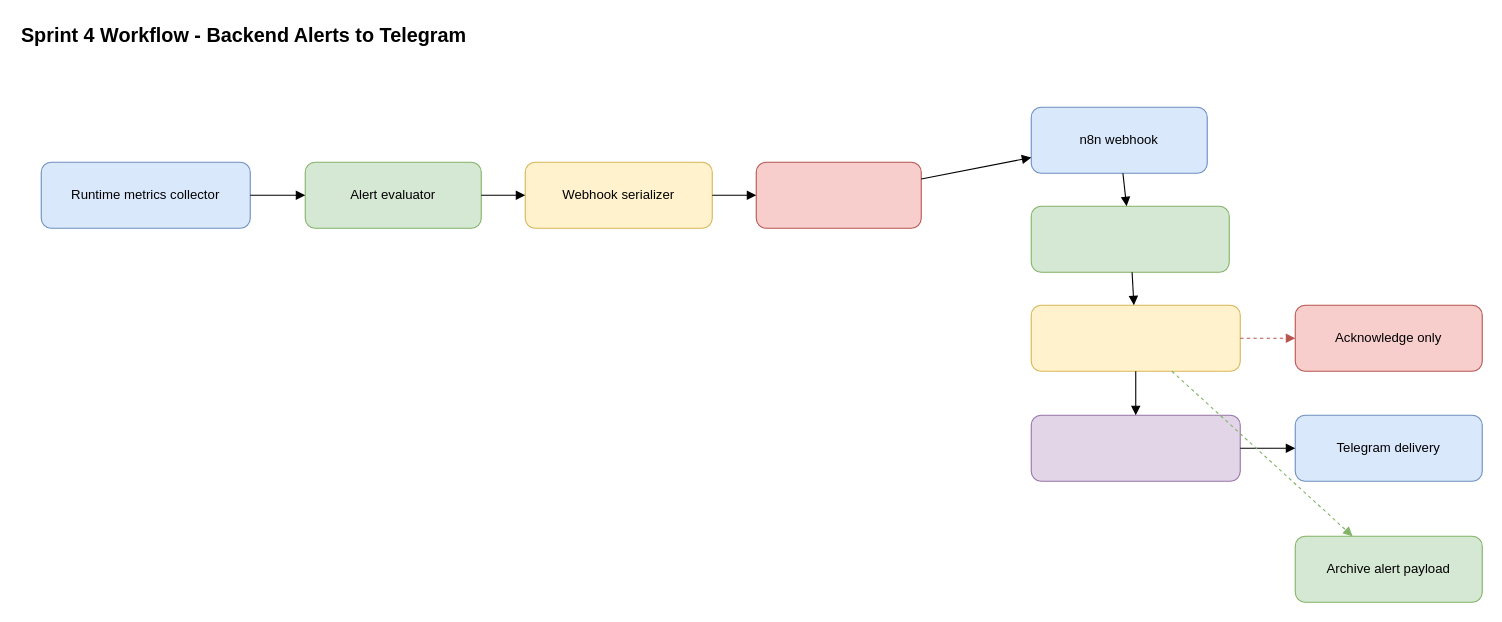
This 1502x622 diagram has some shape labels left out. The shapes that lost their labels are listed below. From the top down, each one's centre as x and y in pixels, then its label:
At point 838,194: "Delivery client".
At point 1129,238: "Validate webhook secret".
At point 1135,337: "Alert gate and cooldown".
At point 1135,447: "Format Telegram message".
